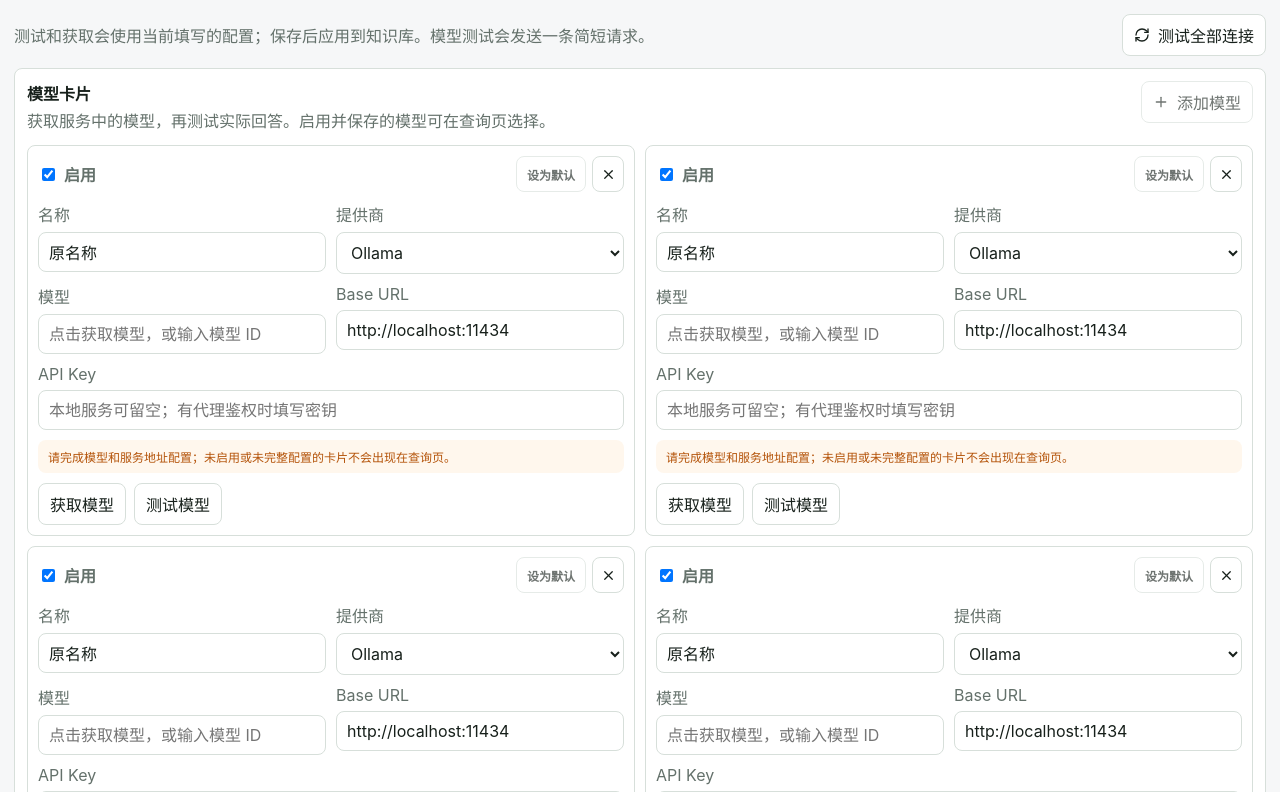
Scenario: settings review regressions › enforces the modelProfiles card limit and reopens addition after deletion
This screenshot has width=1280, height=792.
Expected: the button "添加模型" is disabled, [1141, 81, 1253, 123]
Click the 1st button named "删除模型".
click(608, 174)  # box [592, 156, 624, 192]
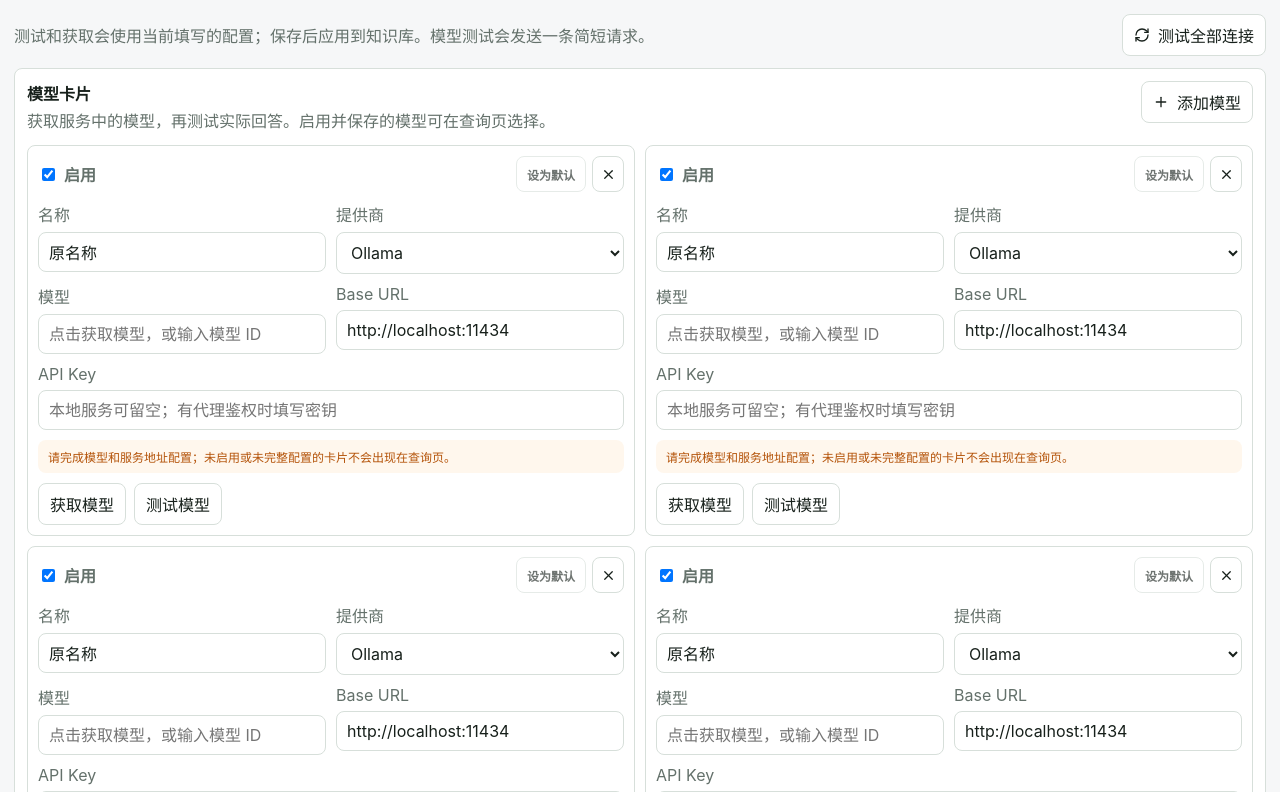
Now the button "添加模型" is enabled
Click the button "添加模型".
click(1197, 102)  # box [1141, 81, 1253, 123]
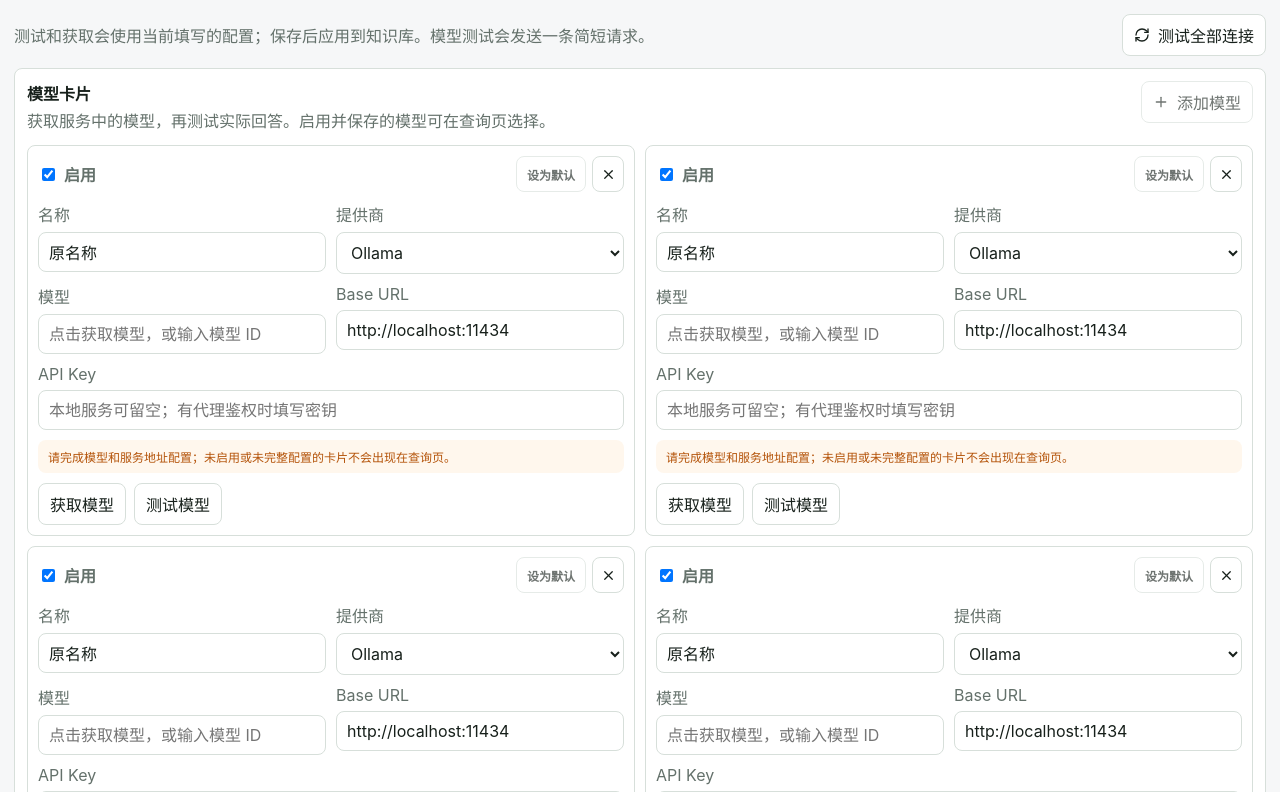
Now the button "添加模型" is disabled, box [1141, 81, 1253, 123]
